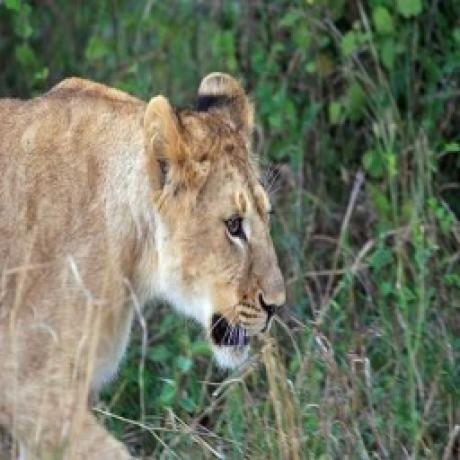Lion: (0, 68, 291, 458)
